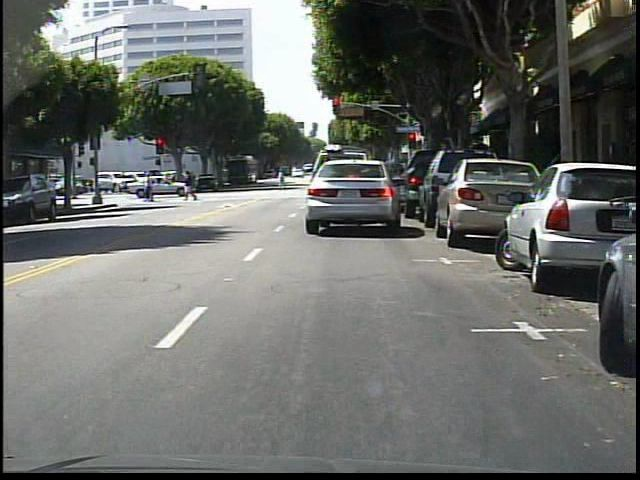person: (143, 174, 158, 203), (183, 170, 197, 201), (278, 167, 286, 190)
